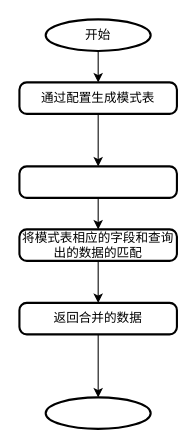
This 195x447 diagram has some shape labels left out. The shapes that lost their labels are listed below. From the top down, each one's box as (x1, y1, x2, y2) in pixels, then its label:
(18, 165, 177, 198): 查询数据
(44, 396, 151, 429): 结束
